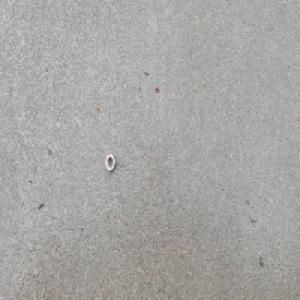Nut: (105, 154, 115, 172)
